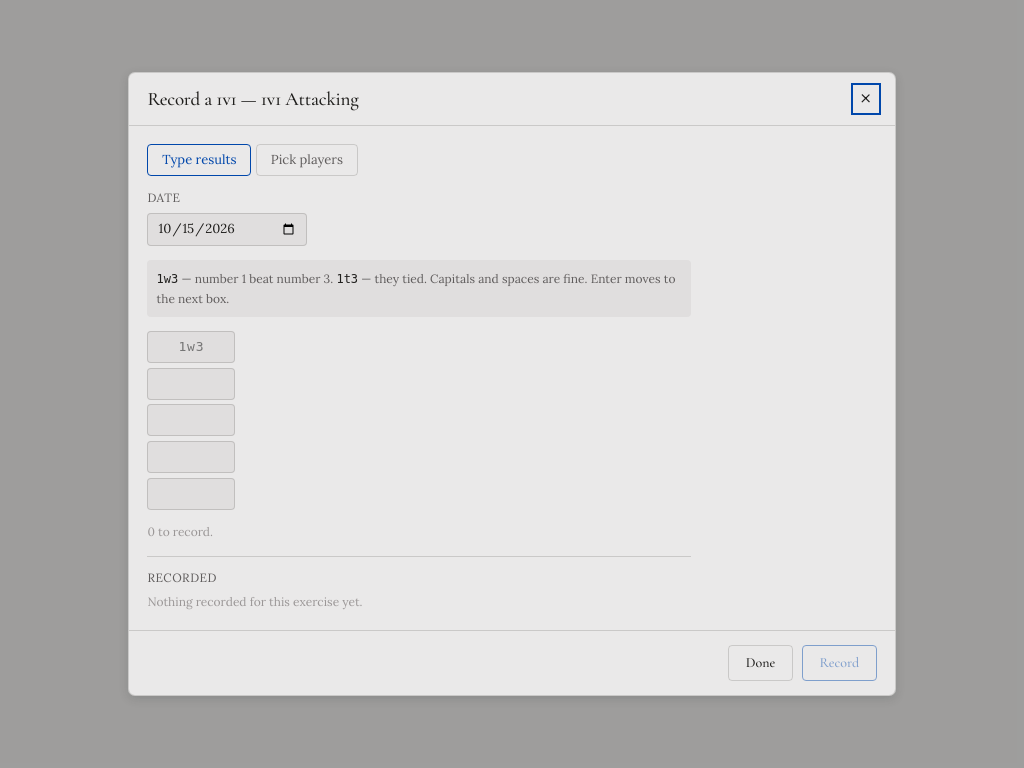
the picker: choosing the pairing › refuses a player against themselves
The image size is (1024, 768).
Click the button "Pick players" at (307, 160), box [256,144,358,176]
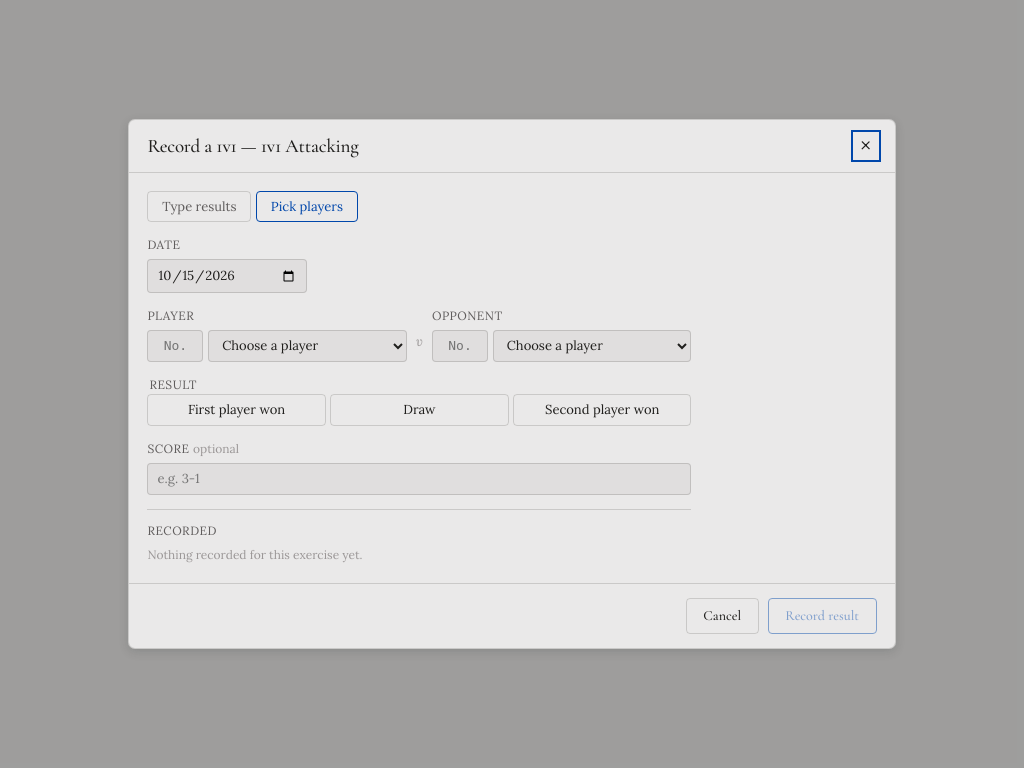
Select "(7) Cesar A." in the dropdown named "Player" at (307, 346), box [208,330,407,362]
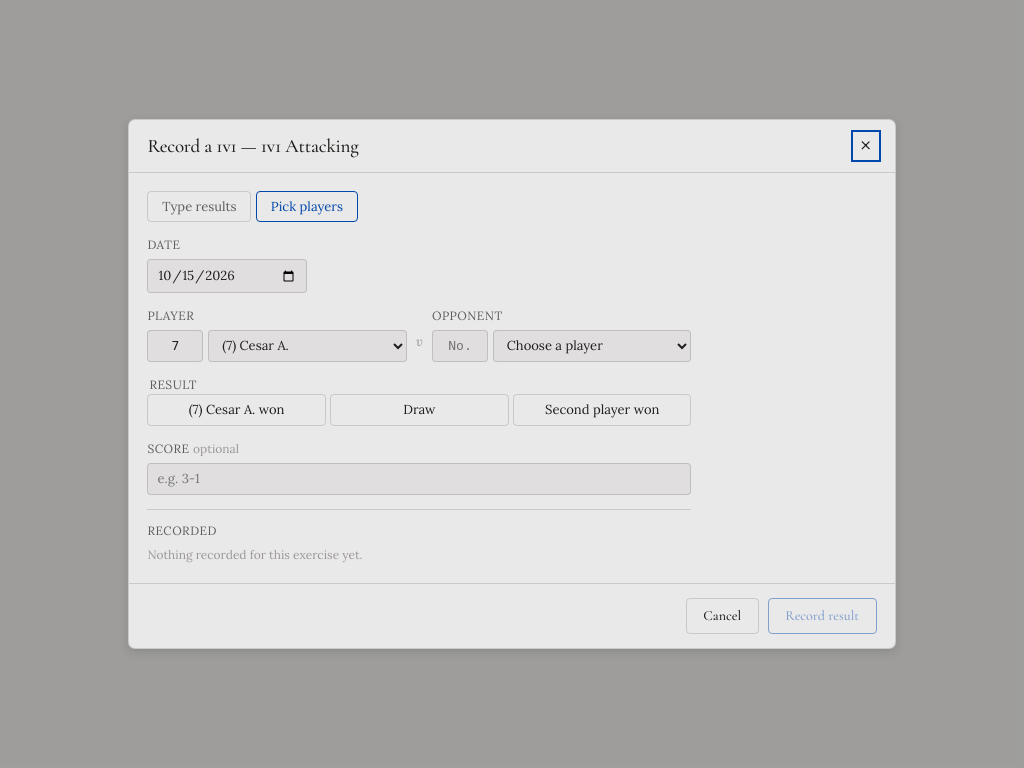
Select "(7) Cesar A." in the dropdown named "Opponent" at (592, 346), box [493,330,691,362]
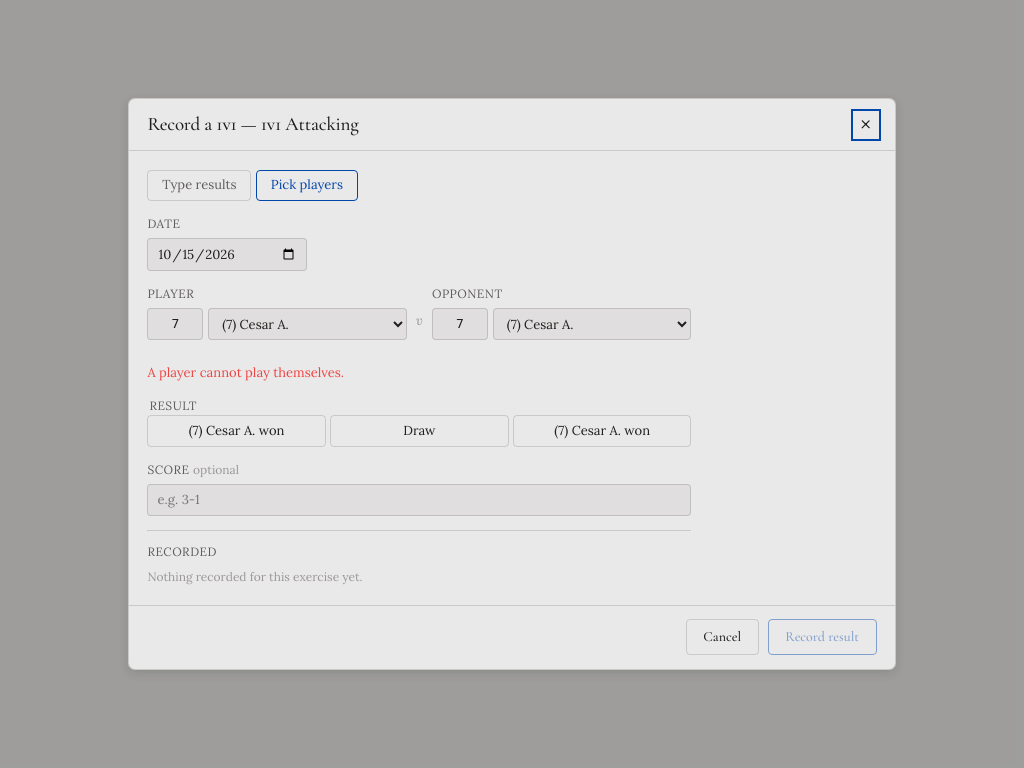
Expected: the button "Record result" is disabled, [768,619,877,655]
Expected: the message "A player cannot play themselves." is shown, [147,364,344,382]
